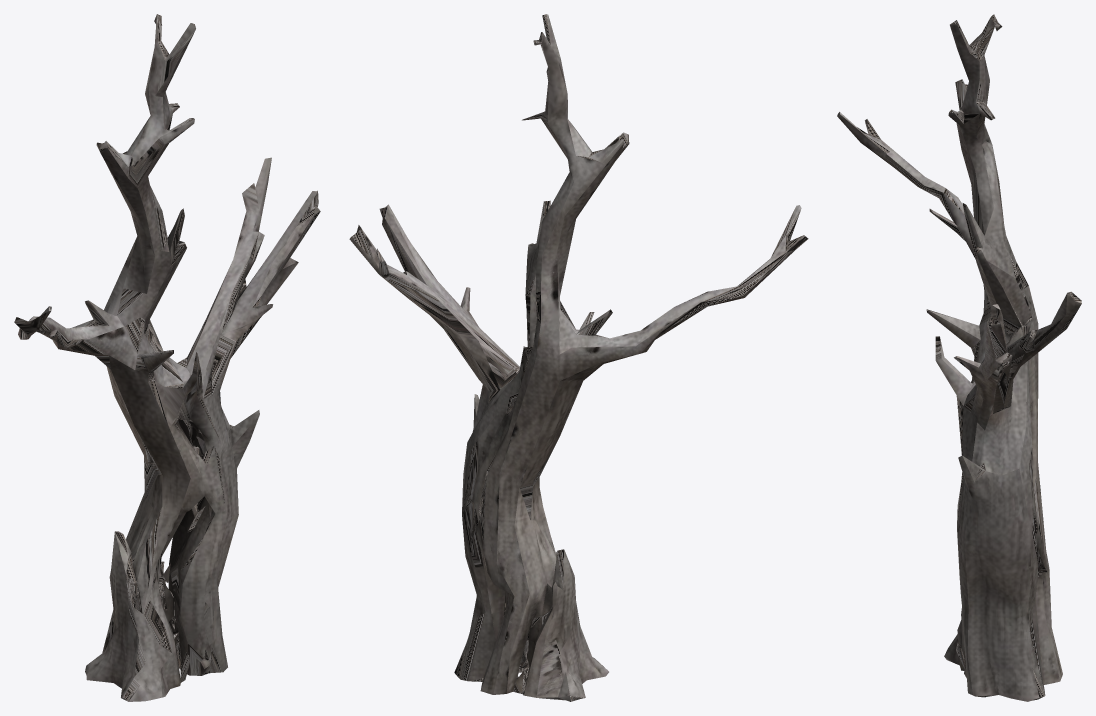
Rendered from 21_dead_desert_snag.glb.
3 renders of one model, left to right at view 1: azimuth 30°, elevation 25°; view 2: azimuth 150°, elevation 25°; view 3: azimuth 270°, elevation 25°, orthographic. The views are drawn at different scales.
Visible parts, largest first — view 1: world; view 2: world; view 3: world.
Boxes of the visible parts, x1,y1,x2,y2 form: world: [14, 14, 320, 701]; world: [349, 14, 808, 701]; world: [837, 14, 1081, 701].
Size of the model in its own units: 0.5897 by 1 by 0.3395.
Materials: 1 (1 with a texture image).
